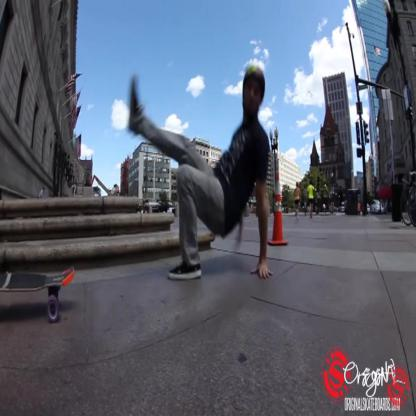Fall_Down: (126, 65, 274, 285)
